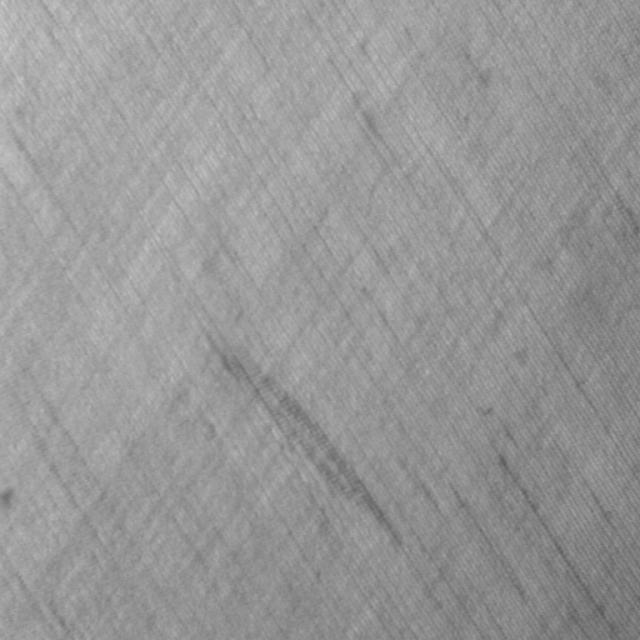oil spot: (216, 338, 406, 552)
